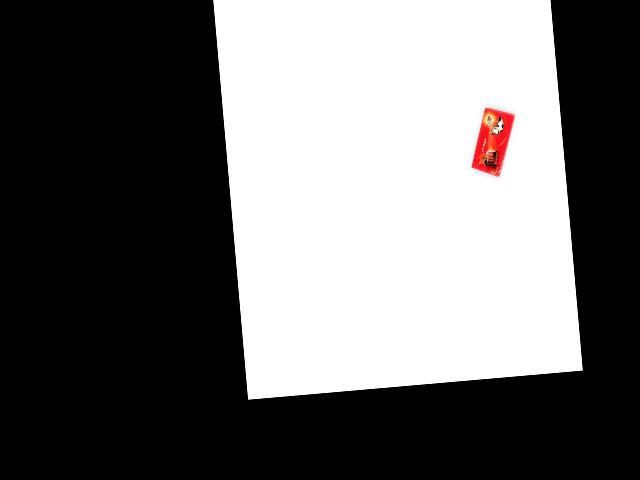chocolate: (465, 106, 520, 179)
